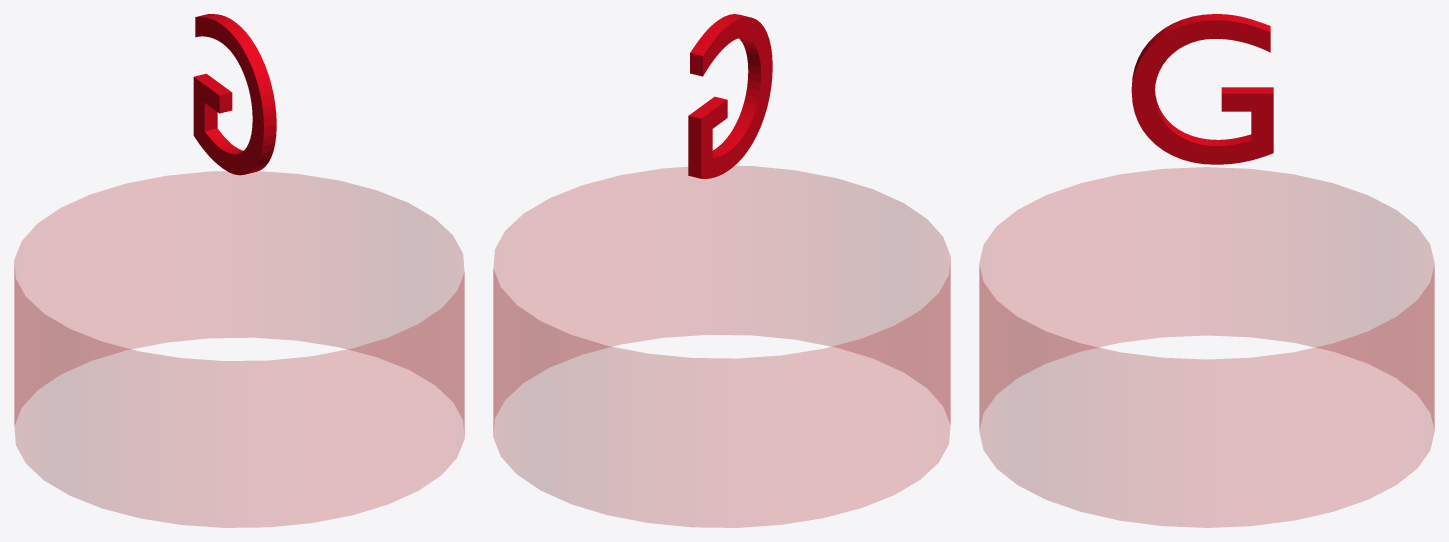
The model's file is goal.glb.
The picture shows the model from 3 angles, left to right: view 1: azimuth 30°, elevation 25°; view 2: azimuth 150°, elevation 25°; view 3: azimuth 270°, elevation 25°; orthographic projection.
Parts seen in each view (by area): view 1: 円柱, 円柱.001, テキスト; view 2: 円柱, 円柱.001, テキスト; view 3: 円柱.001, 円柱, テキスト.
Boxes of the visible parts, x1,y1,x2,y2 form: 円柱: [14, 184, 351, 527]; 円柱.001: [127, 171, 464, 514]; テキスト: [193, 14, 276, 175]; 円柱: [607, 179, 950, 527]; 円柱.001: [493, 166, 836, 514]; テキスト: [688, 14, 772, 178]; 円柱.001: [979, 266, 1434, 527]; 円柱: [979, 167, 1434, 424]; テキスト: [1131, 14, 1273, 164].
Size of the model in its own units: 2 by 1.99 by 2.
